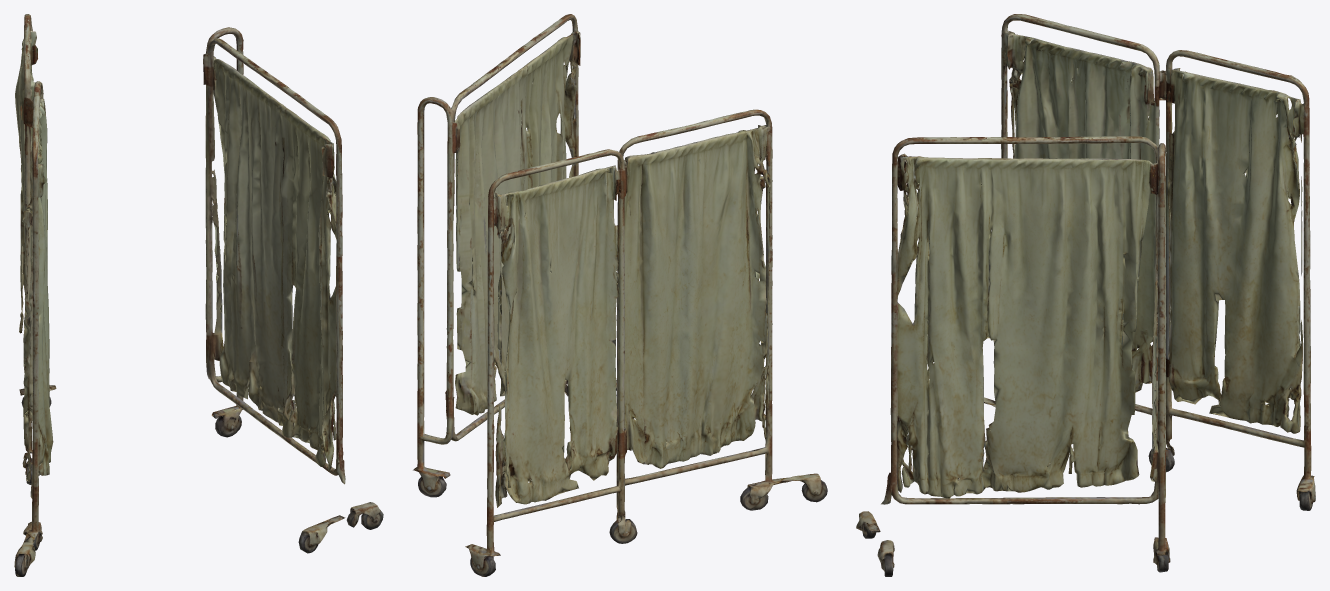
File: FoldingScreen.fbx
3 views of the same model, side by side, from view 1: azimuth 30°, elevation 25°; view 2: azimuth 150°, elevation 25°; view 3: azimuth 270°, elevation 25° (orthographic). The views are drawn at different scales.
Visible parts, largest first — view 1: texture_mapping; view 2: texture_mapping; view 3: texture_mapping.
Part boxes in pixels (<box>): texture_mapping: <box>14,14,383,576</box>; texture_mapping: <box>413,14,827,576</box>; texture_mapping: <box>856,14,1315,576</box>.
Bounding box in the file's own units: 0.8401 × 0.9736 × 0.9917.
1 material, 1 textured.
